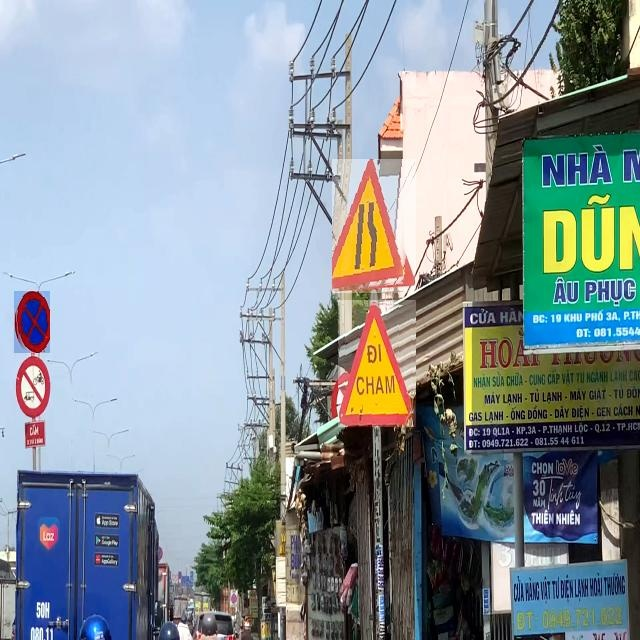bien_cam: (332, 159, 417, 293), (338, 300, 416, 427), (14, 291, 50, 353), (232, 594, 236, 603)
